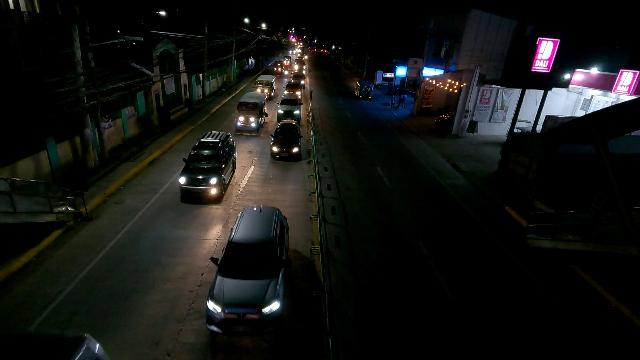car: (203, 204, 291, 337), (177, 132, 237, 201), (268, 122, 303, 159), (277, 94, 302, 123), (283, 79, 304, 98), (290, 71, 306, 88), (294, 57, 305, 67), (321, 49, 327, 53)
jeepney: (233, 92, 267, 132), (255, 74, 277, 96), (354, 80, 374, 100), (273, 61, 284, 75), (283, 55, 292, 67)
